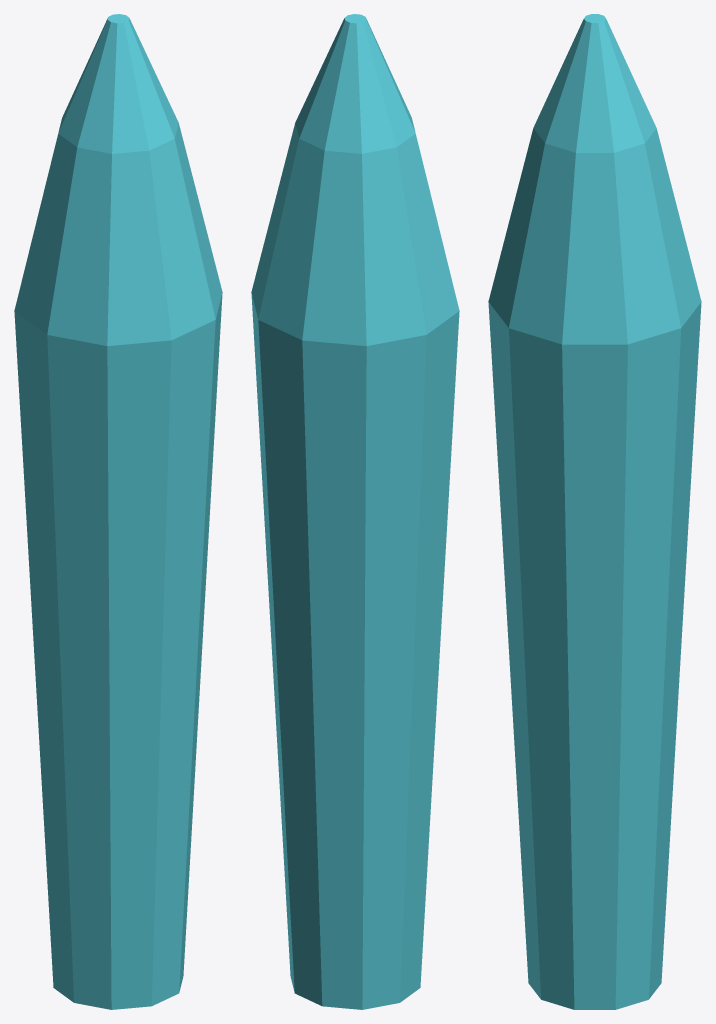
The model's file is kek2.glb.
3 renders of one model, left to right at view 1: azimuth 30°, elevation 25°; view 2: azimuth 150°, elevation 25°; view 3: azimuth 270°, elevation 25°, orthographic.
Parts seen in each view (by area): view 1: Cylinder; view 2: Cylinder; view 3: Cylinder.
Boxes of the visible parts, x1=… form: Cylinder: x1=14, y1=14, x2=222, y2=1009; Cylinder: x1=251, y1=14, x2=459, y2=1009; Cylinder: x1=488, y1=14, x2=701, y2=1009.
Size of what is drawn, in the model's own units: 0.0594 by 0.3118 by 0.0624.
